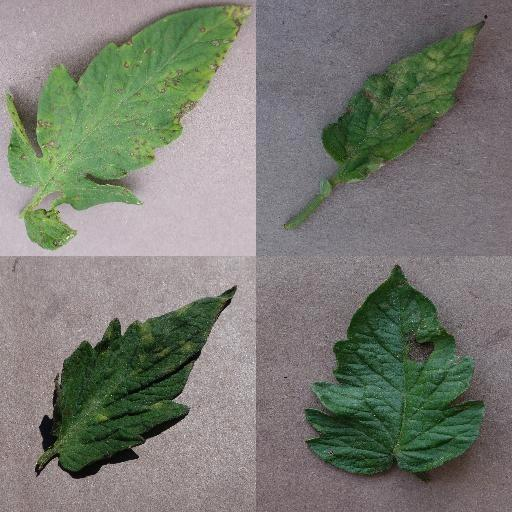Early Blight: (304, 263, 486, 477)
Leaf Mold: (53, 289, 233, 477), (321, 23, 483, 181)
Septoria: (7, 2, 251, 212)
